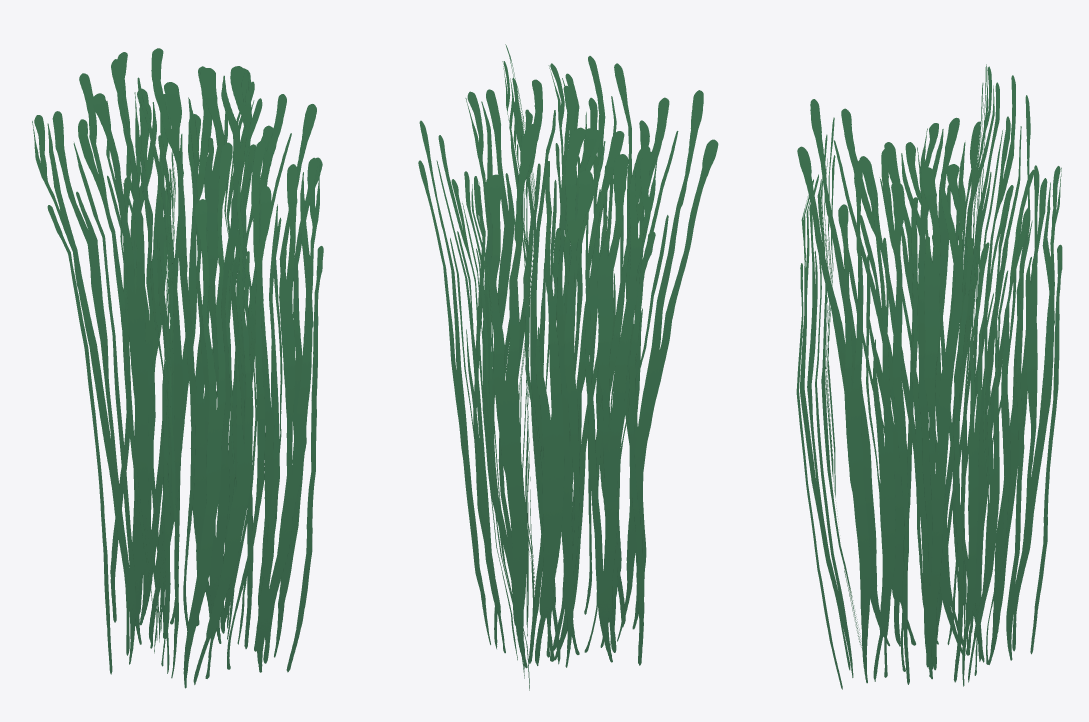
Rendered from SM_ENV_seagrass_town_02.fbx.
3 views of the same model, side by side, from view 1: azimuth 30°, elevation 25°; view 2: azimuth 150°, elevation 25°; view 3: azimuth 270°, elevation 25° (orthographic).
Parts seen in each view (by area): view 1: SM_ENV_seagrass_town_02_LOD0; view 2: SM_ENV_seagrass_town_02_LOD0; view 3: SM_ENV_seagrass_town_02_LOD0.
Part boxes in pixels (x1,y1,x2,y2): SM_ENV_seagrass_town_02_LOD0: [32, 48, 323, 688]; SM_ENV_seagrass_town_02_LOD0: [418, 44, 718, 690]; SM_ENV_seagrass_town_02_LOD0: [796, 64, 1062, 689].
Bounding box in the file's own units: 140 × 287 × 127.
